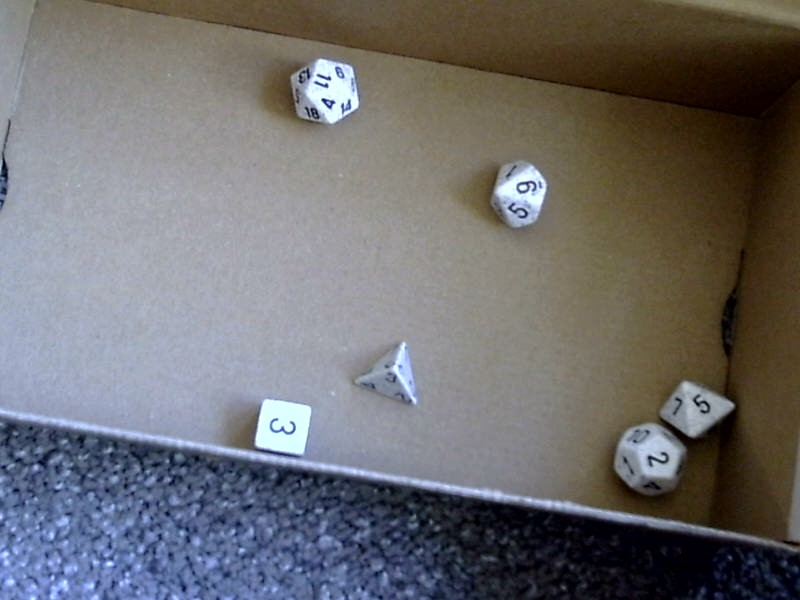d10 9: (486, 159, 546, 231)
d12 2: (610, 418, 683, 497)
d20 11: (286, 56, 361, 126)
d4 3: (352, 337, 419, 407)
d6 3: (252, 390, 312, 459)
d8 5: (656, 369, 742, 440)
